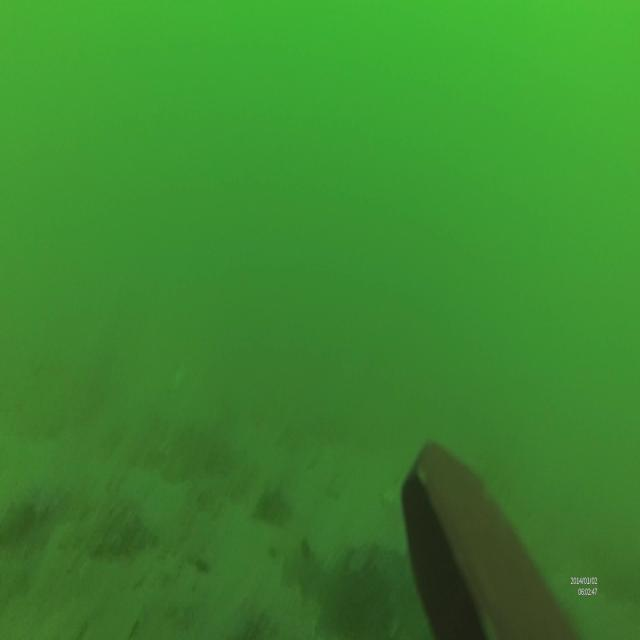holothurian: (85, 523, 154, 553)
